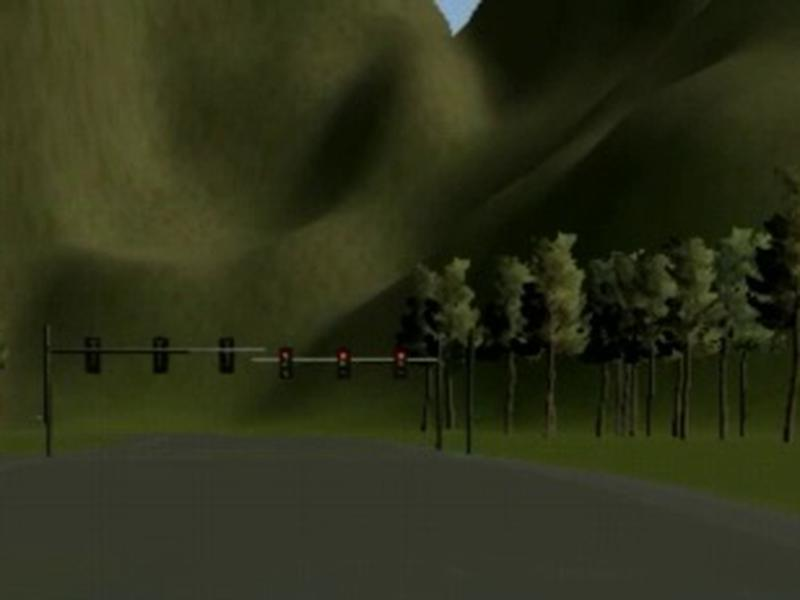Red: (337, 347, 351, 380), (394, 349, 409, 379), (280, 347, 292, 380)
